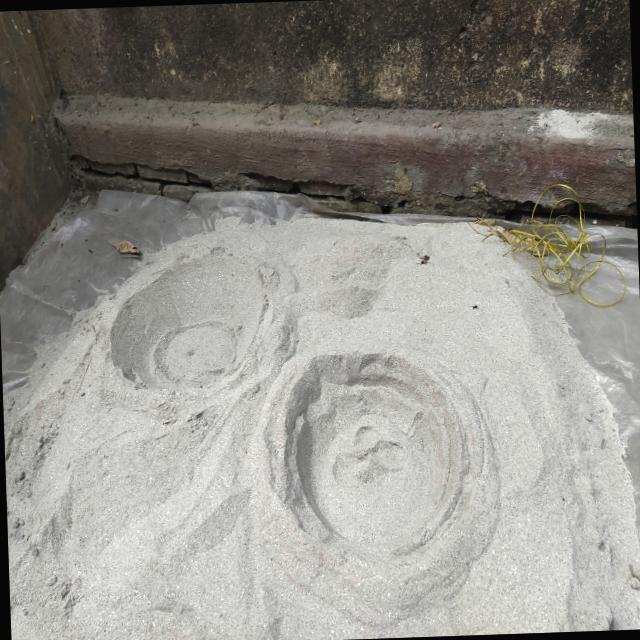C20: (284, 353, 467, 558), (110, 250, 269, 389)
